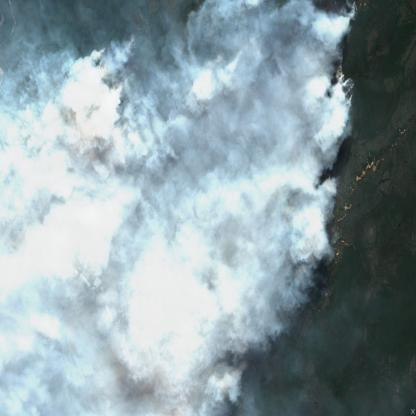fire: (47, 0, 356, 383)
